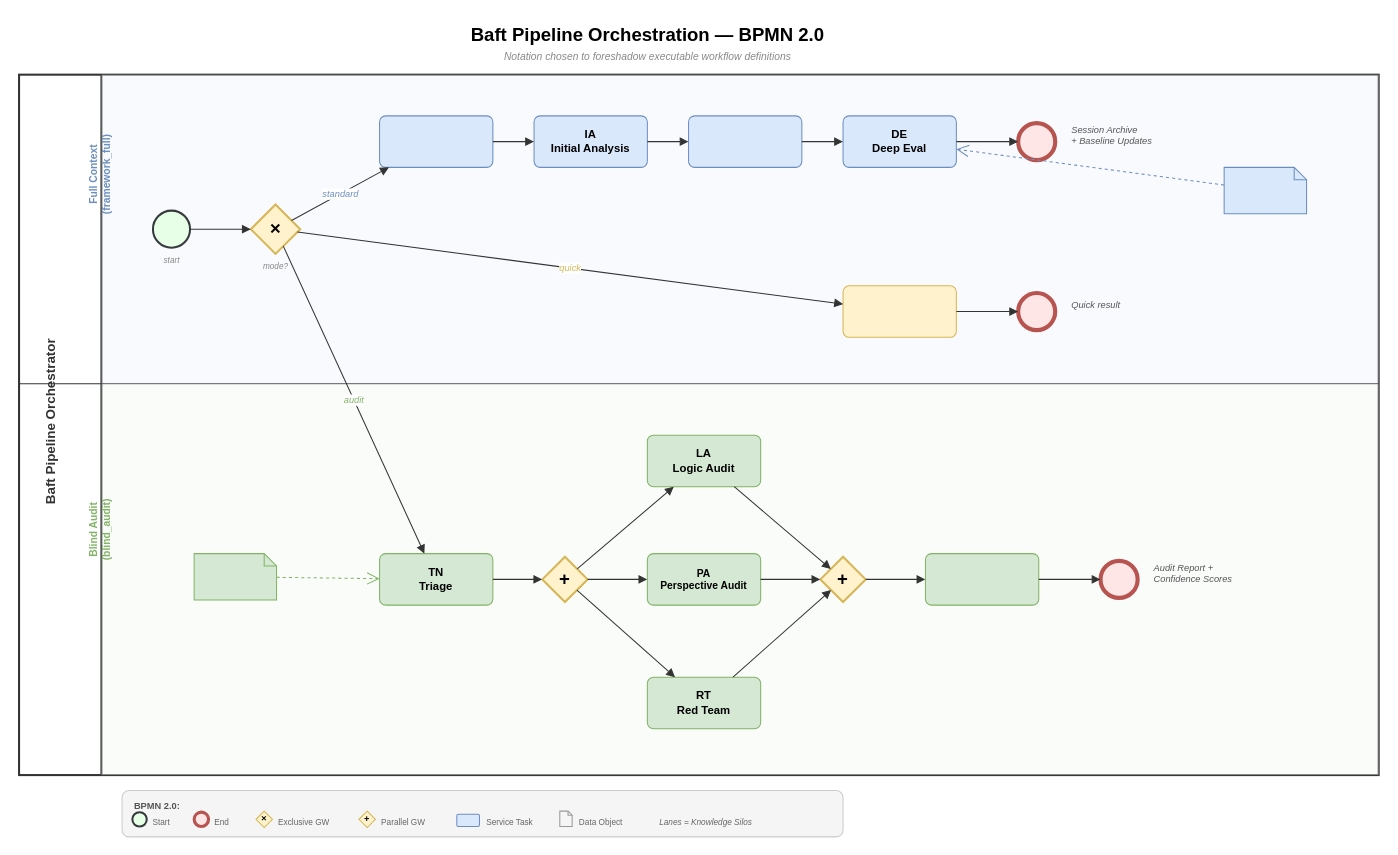
Image size: 1398x855. Some labels were removed from this diagram. The shapes that lost their labels are listed below. From the top down, each one's centre as x and y in pixels, then its label:
At [436,141]: "SP Source Prep".
At [745,141]: "XV Cross-Validate".
At [1265,190]: "Baseline YAML data".
At [899,311]: "DE Deep Eval (direct)".
At [235,576]: "Claim under review".
At [981,579]: "AS Audit Synth".
